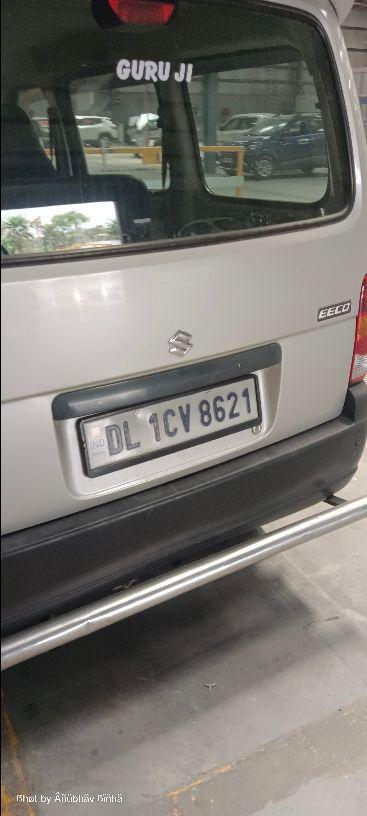license_plate: (76, 371, 264, 477)
